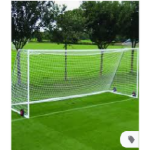goals: (13, 46, 139, 117)
